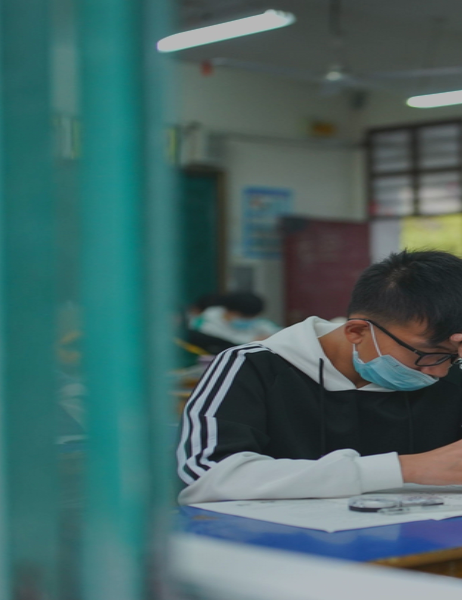mask_weared_incorrect: (354, 254, 462, 391)
